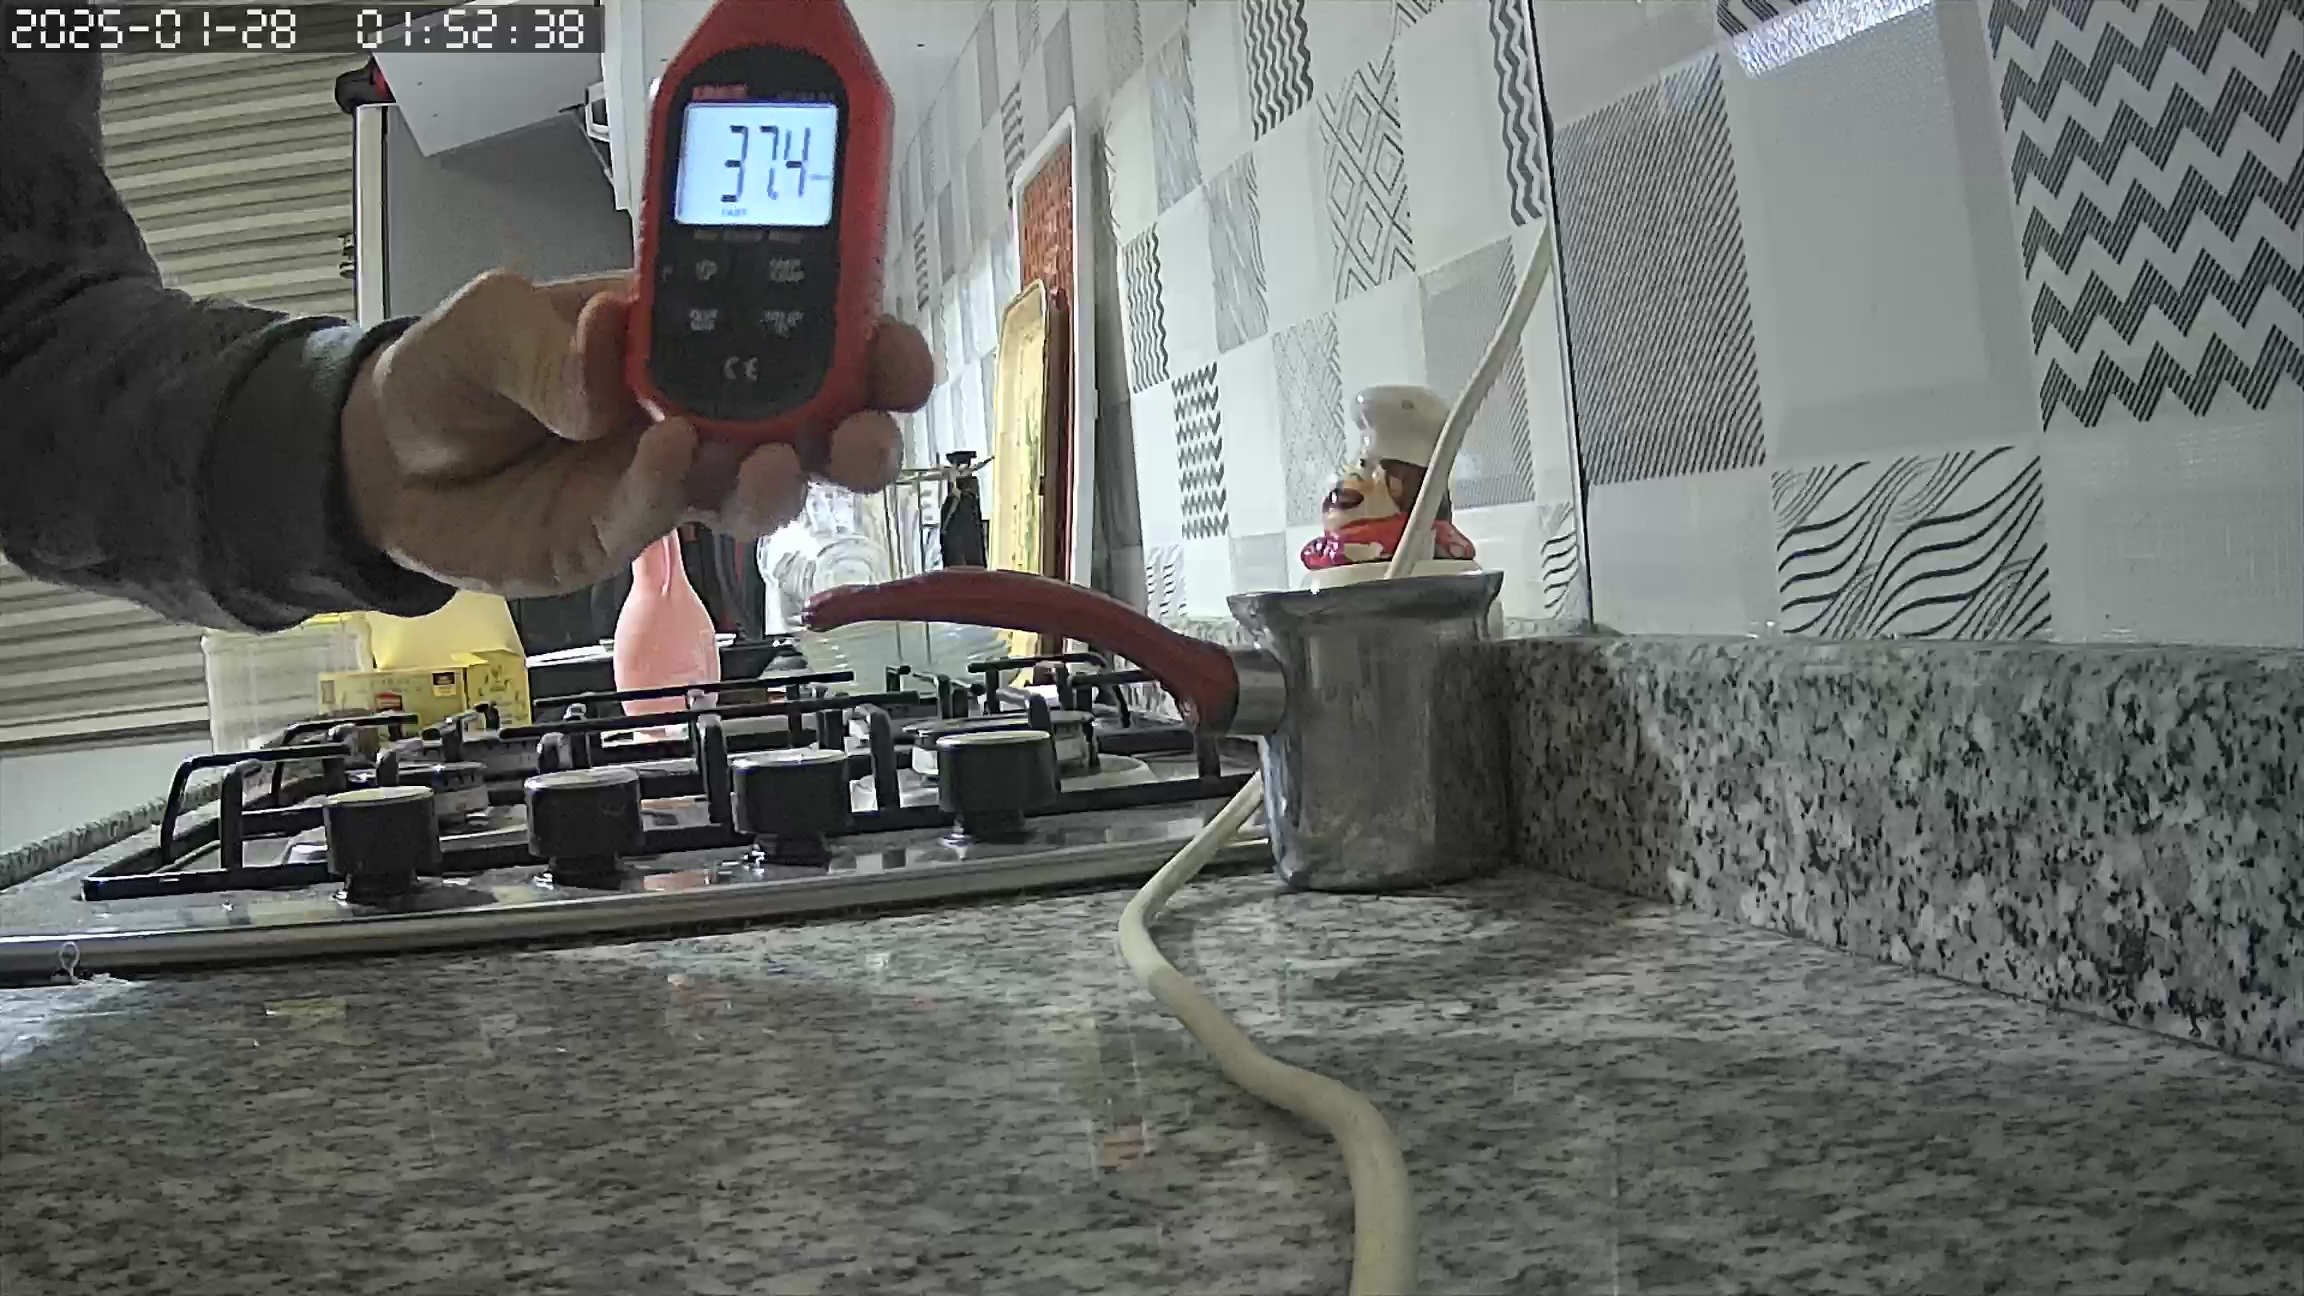screen: (671, 103, 836, 228)
